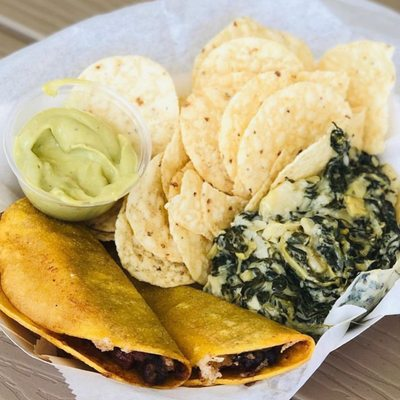curry: (203, 131, 400, 340)
soup: (0, 193, 194, 388)
